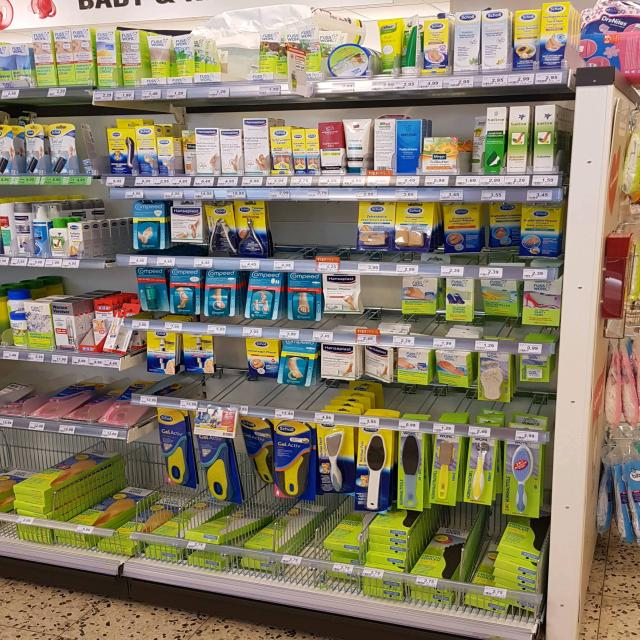empty: (267, 199, 357, 260), (214, 35, 255, 82), (85, 227, 124, 258)
